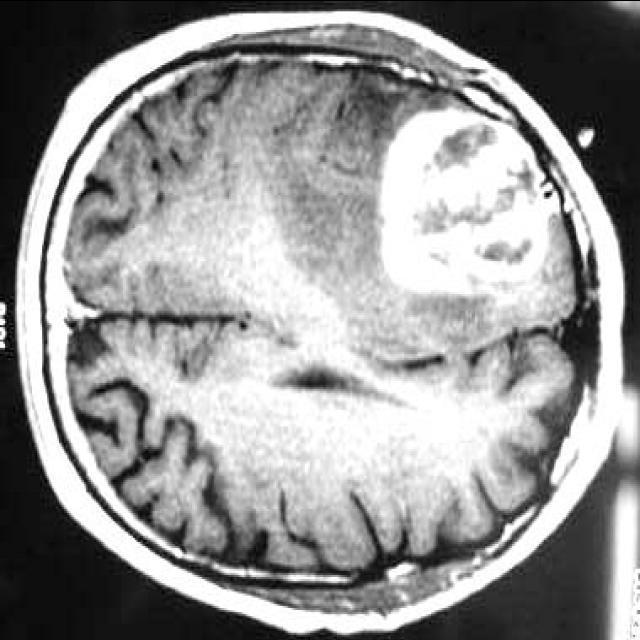tumor: (379, 103, 571, 295)
